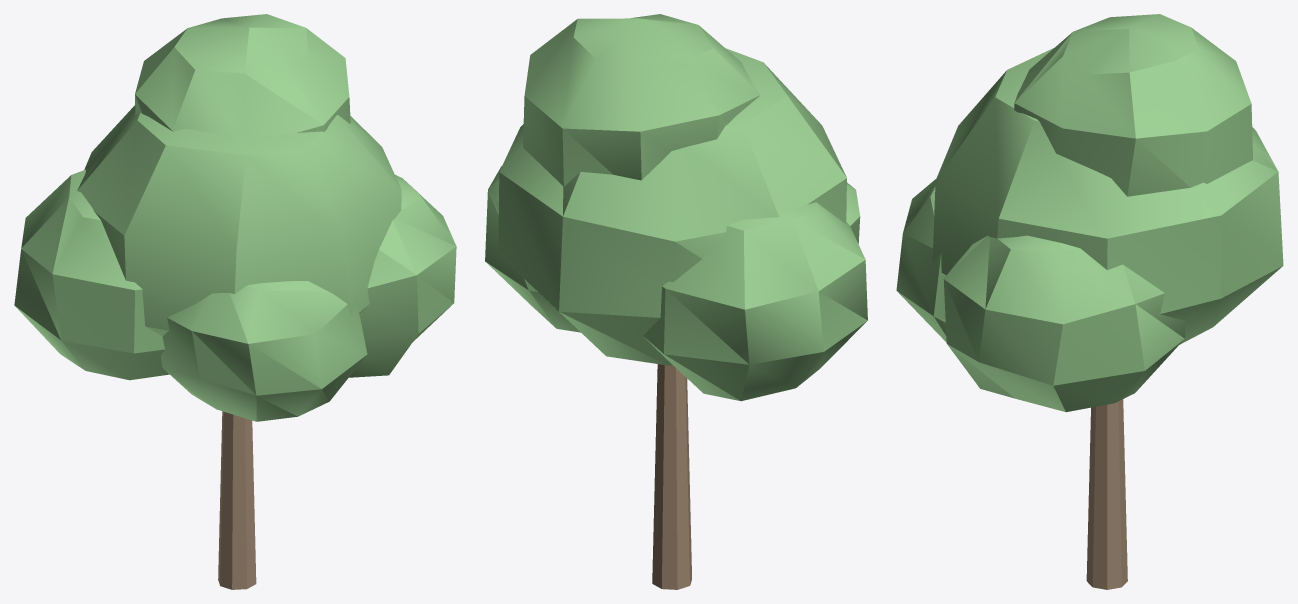
File: tree_round.glb
The picture shows the model from 3 angles, left to right: view 1: azimuth 30°, elevation 25°; view 2: azimuth 150°, elevation 25°; view 3: azimuth 270°, elevation 25°; orthographic projection. The views are drawn at different scales.
Visible parts, largest first — view 1: body; view 2: body; view 3: body.
Boxes of the visible parts, x1,y1,x2,y2 form: body: [14, 14, 456, 589]; body: [485, 14, 867, 589]; body: [896, 14, 1283, 589].
Size of the model in its own units: 3.9 by 5.43 by 3.38.
